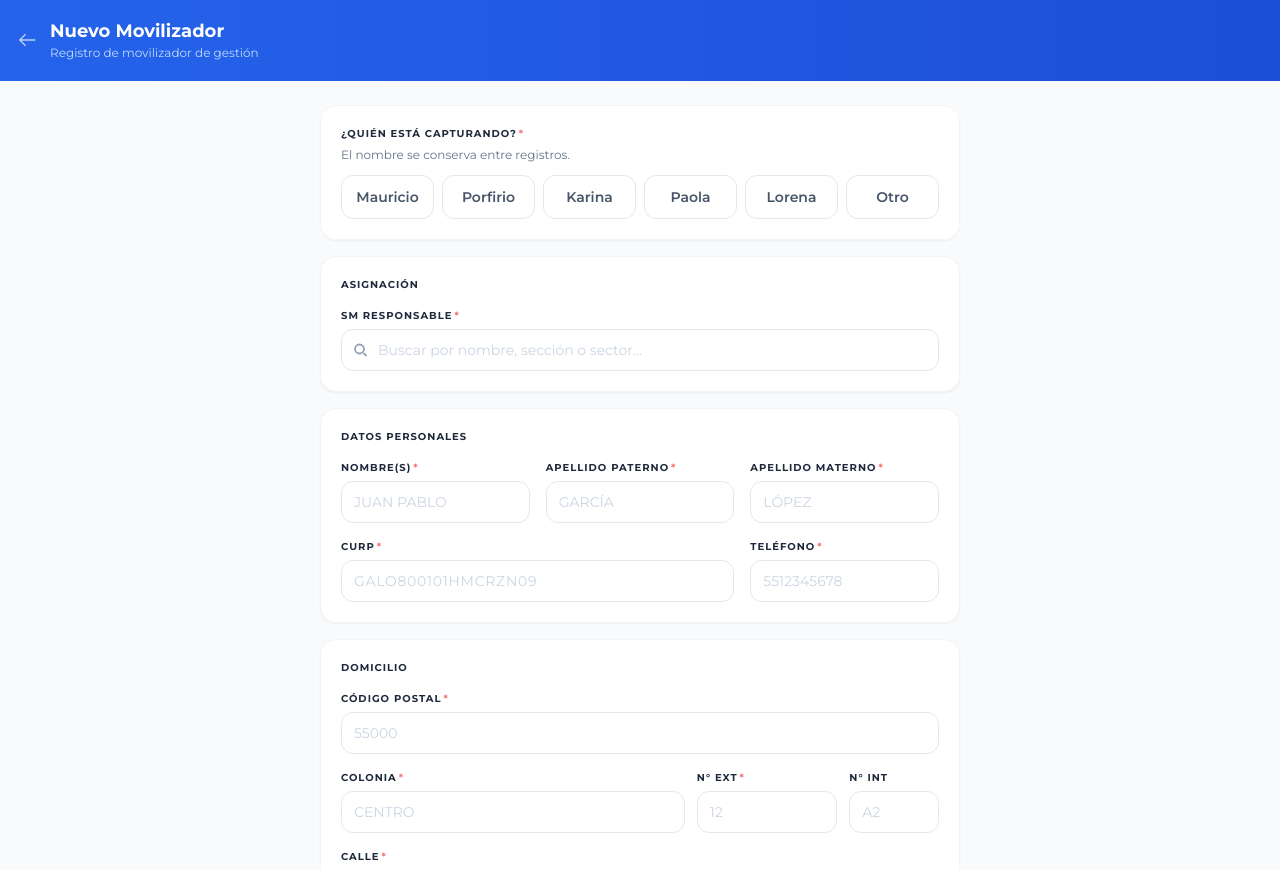
Test: la búsqueda exige todas las palabras del nombre
Focus the field with placeholder "Buscar por nombre, sección o sector…". click: x=640, y=350
box: [341,328,939,370]
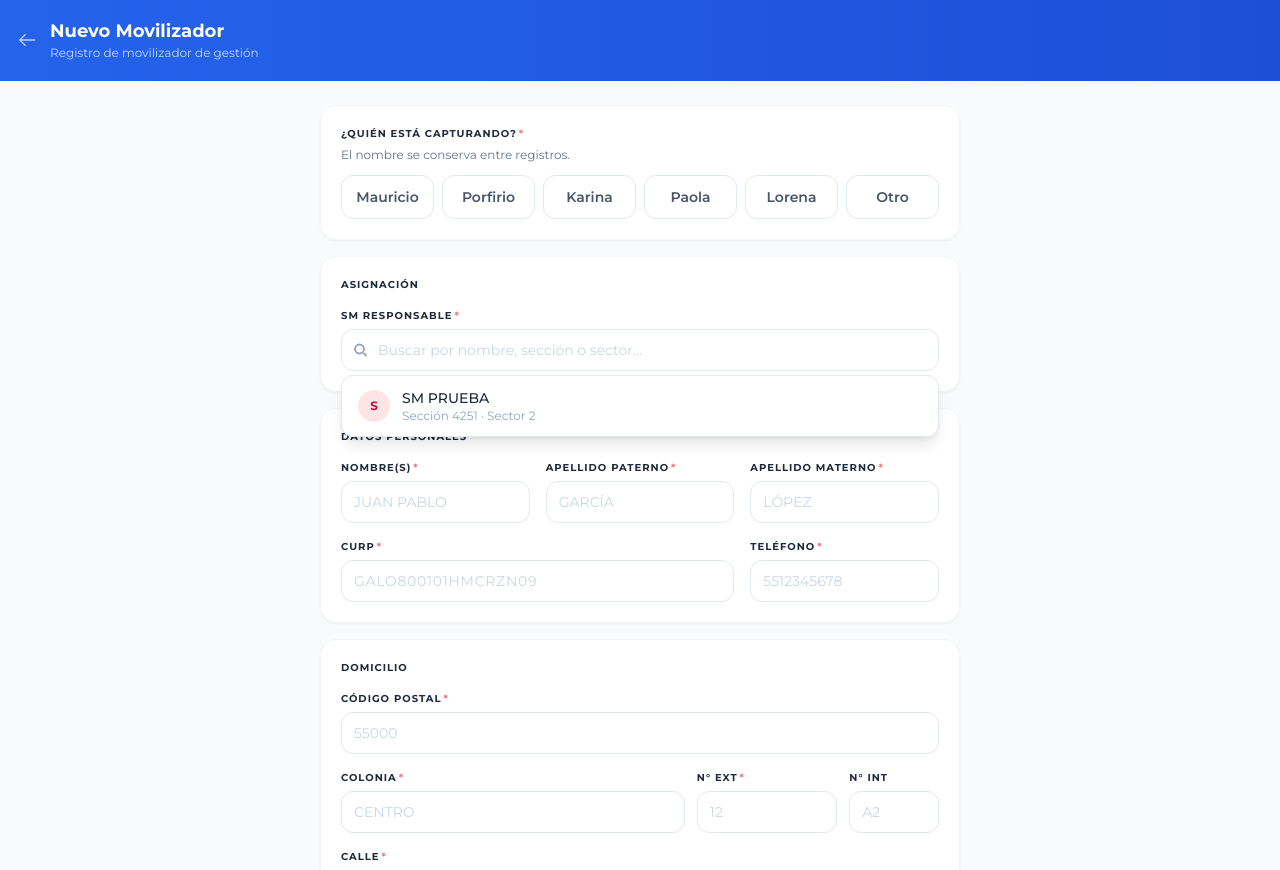
expect the button "S SM PRUEBA Sección 4251 · Sector 2" is shown: met, box [342,376,938,436]
Type "SM inexistente" into the field with placeholder "Buscar por nombre, sección o sector…". click: x=640, y=350
box: [341,328,939,370]
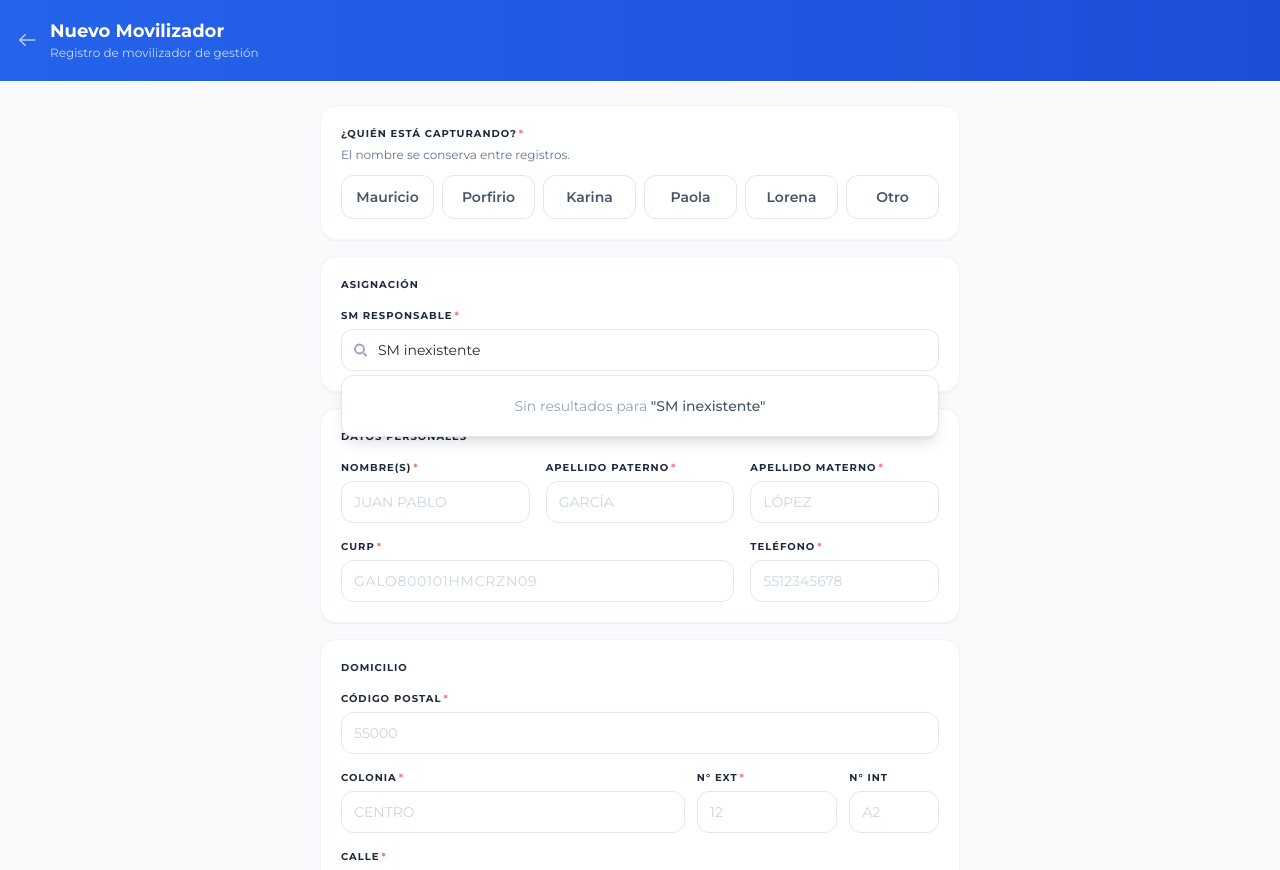
expect the button "SM PRUEBA" is gone: met
expect the text "Sin resultados para \"SM inexistente\"" is shown: met, box [514,396,766,414]
